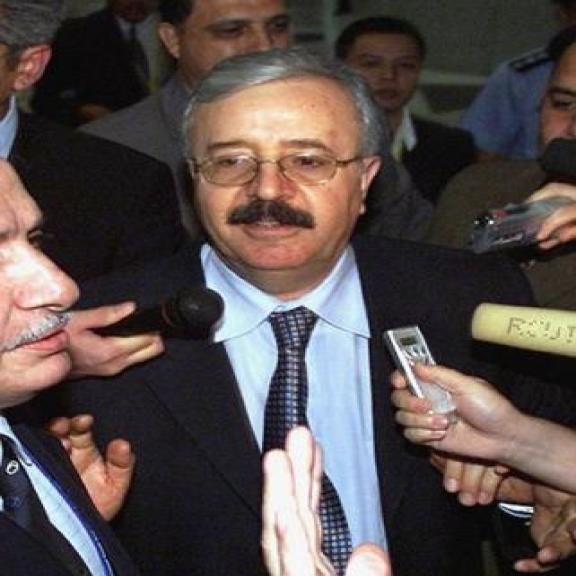face: (188, 94, 391, 269), (0, 158, 89, 410), (151, 0, 296, 76), (335, 30, 426, 116)
